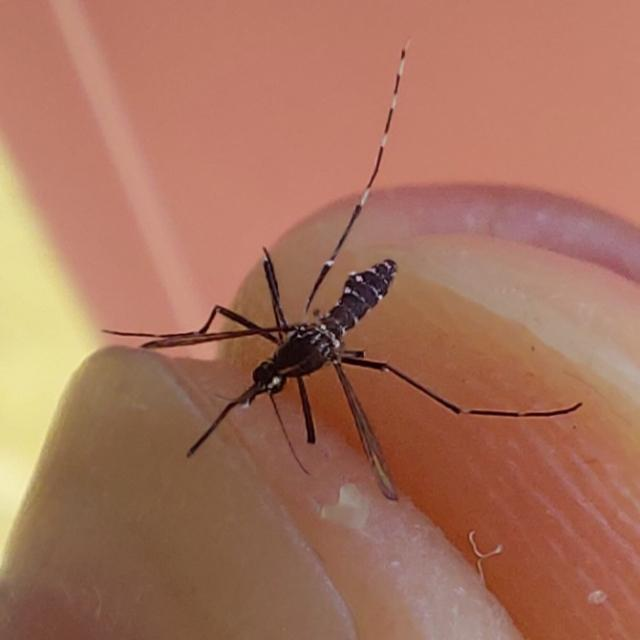albopictus: (90, 41, 584, 521)
